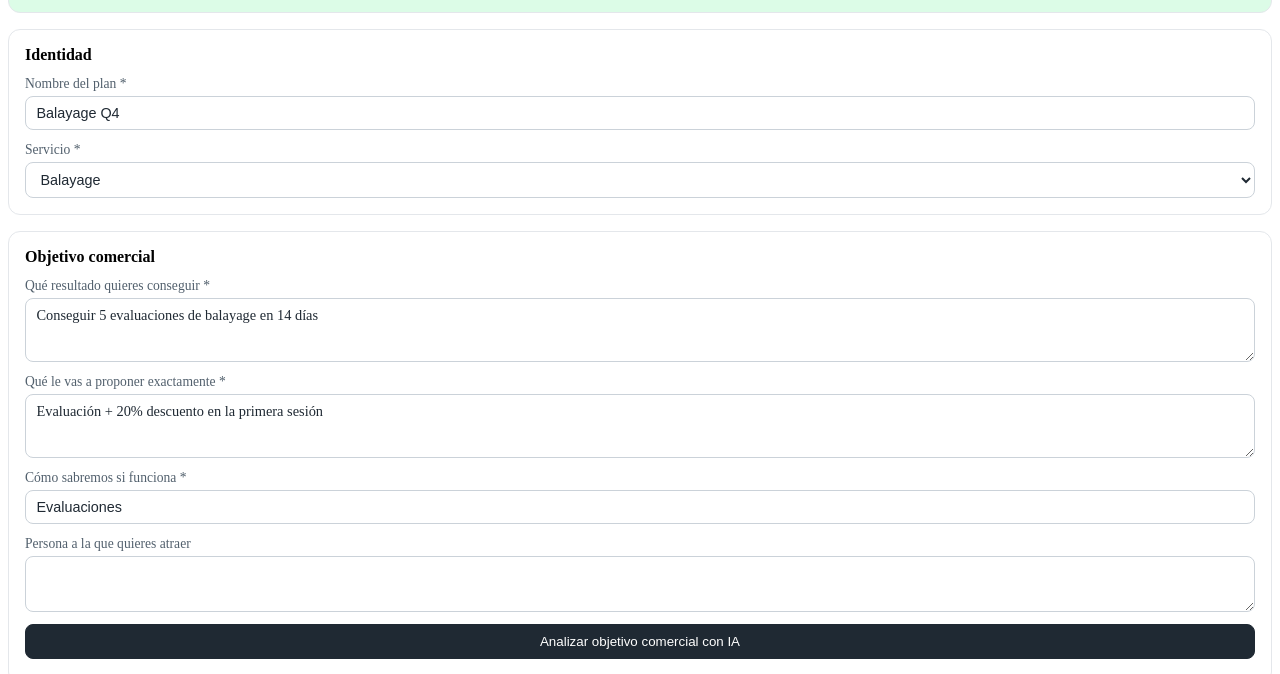
Test: CampaignBriefForm · Analizar objetivo comercial con IA › Descartar oculta la tarjeta de stopIf sin tocar el textarea
Click the button with test id "cb-suggest-rules".
click(640, 641)  # box 25,624 -> 1255,659
(page scrolled)
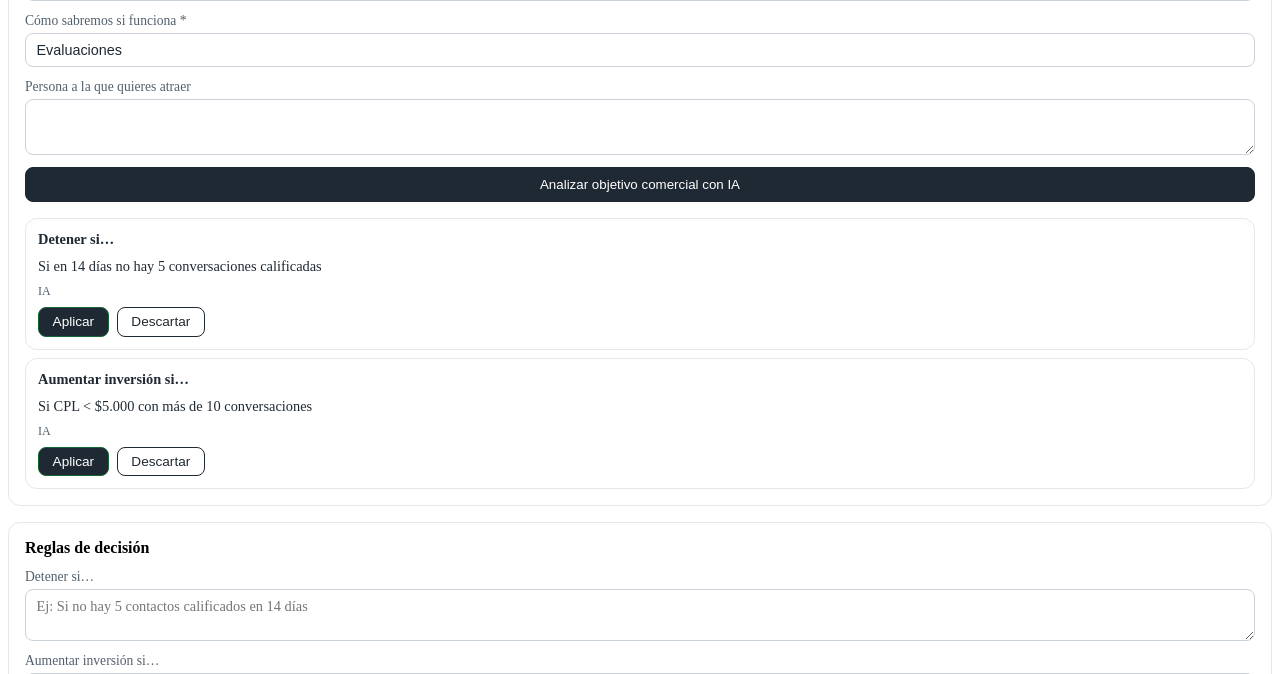
Click the 1st button "Descartar".
click(161, 322)  # box 117,307 -> 205,337
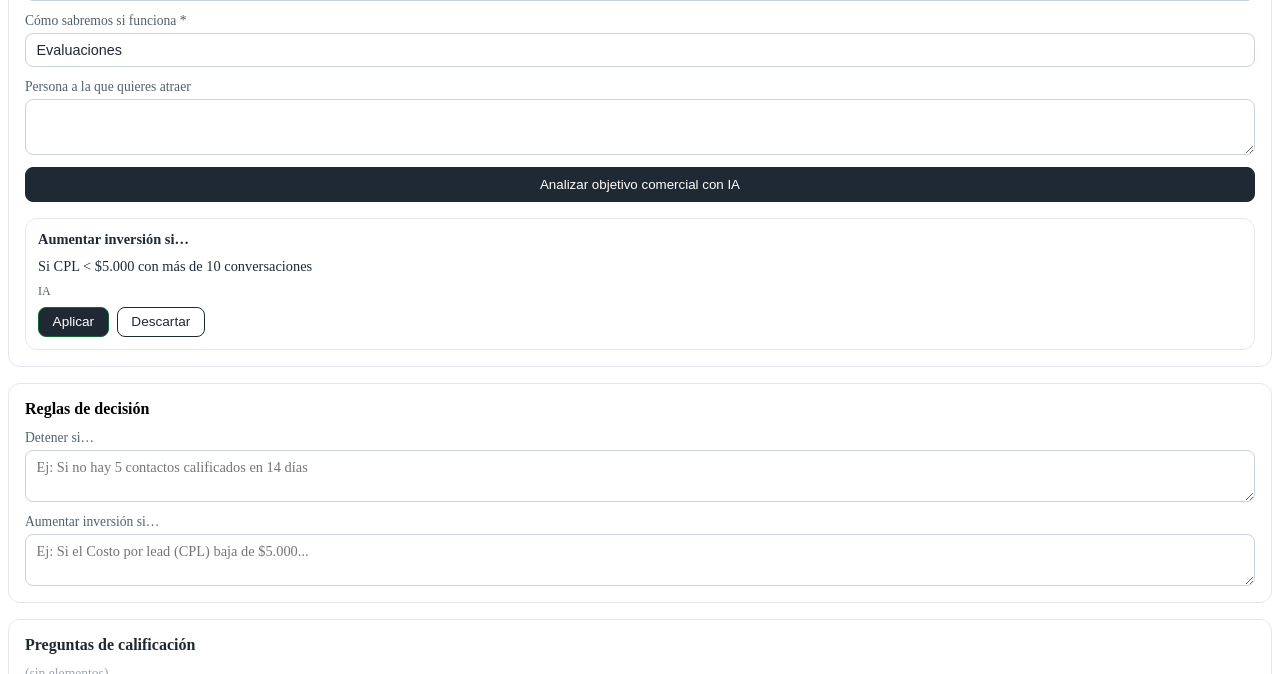
Expected: the text box labelled "Detener si…" is empty, 25,450 -> 1255,502
Expected: the element with test id "cb-suggest-rules-stopIf" is gone
